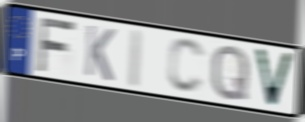C: (165, 37, 207, 96)
F: (35, 15, 78, 74)
I: (126, 27, 145, 91)
K: (83, 22, 117, 84)
Q: (209, 43, 251, 103)
V: (252, 46, 297, 111)
